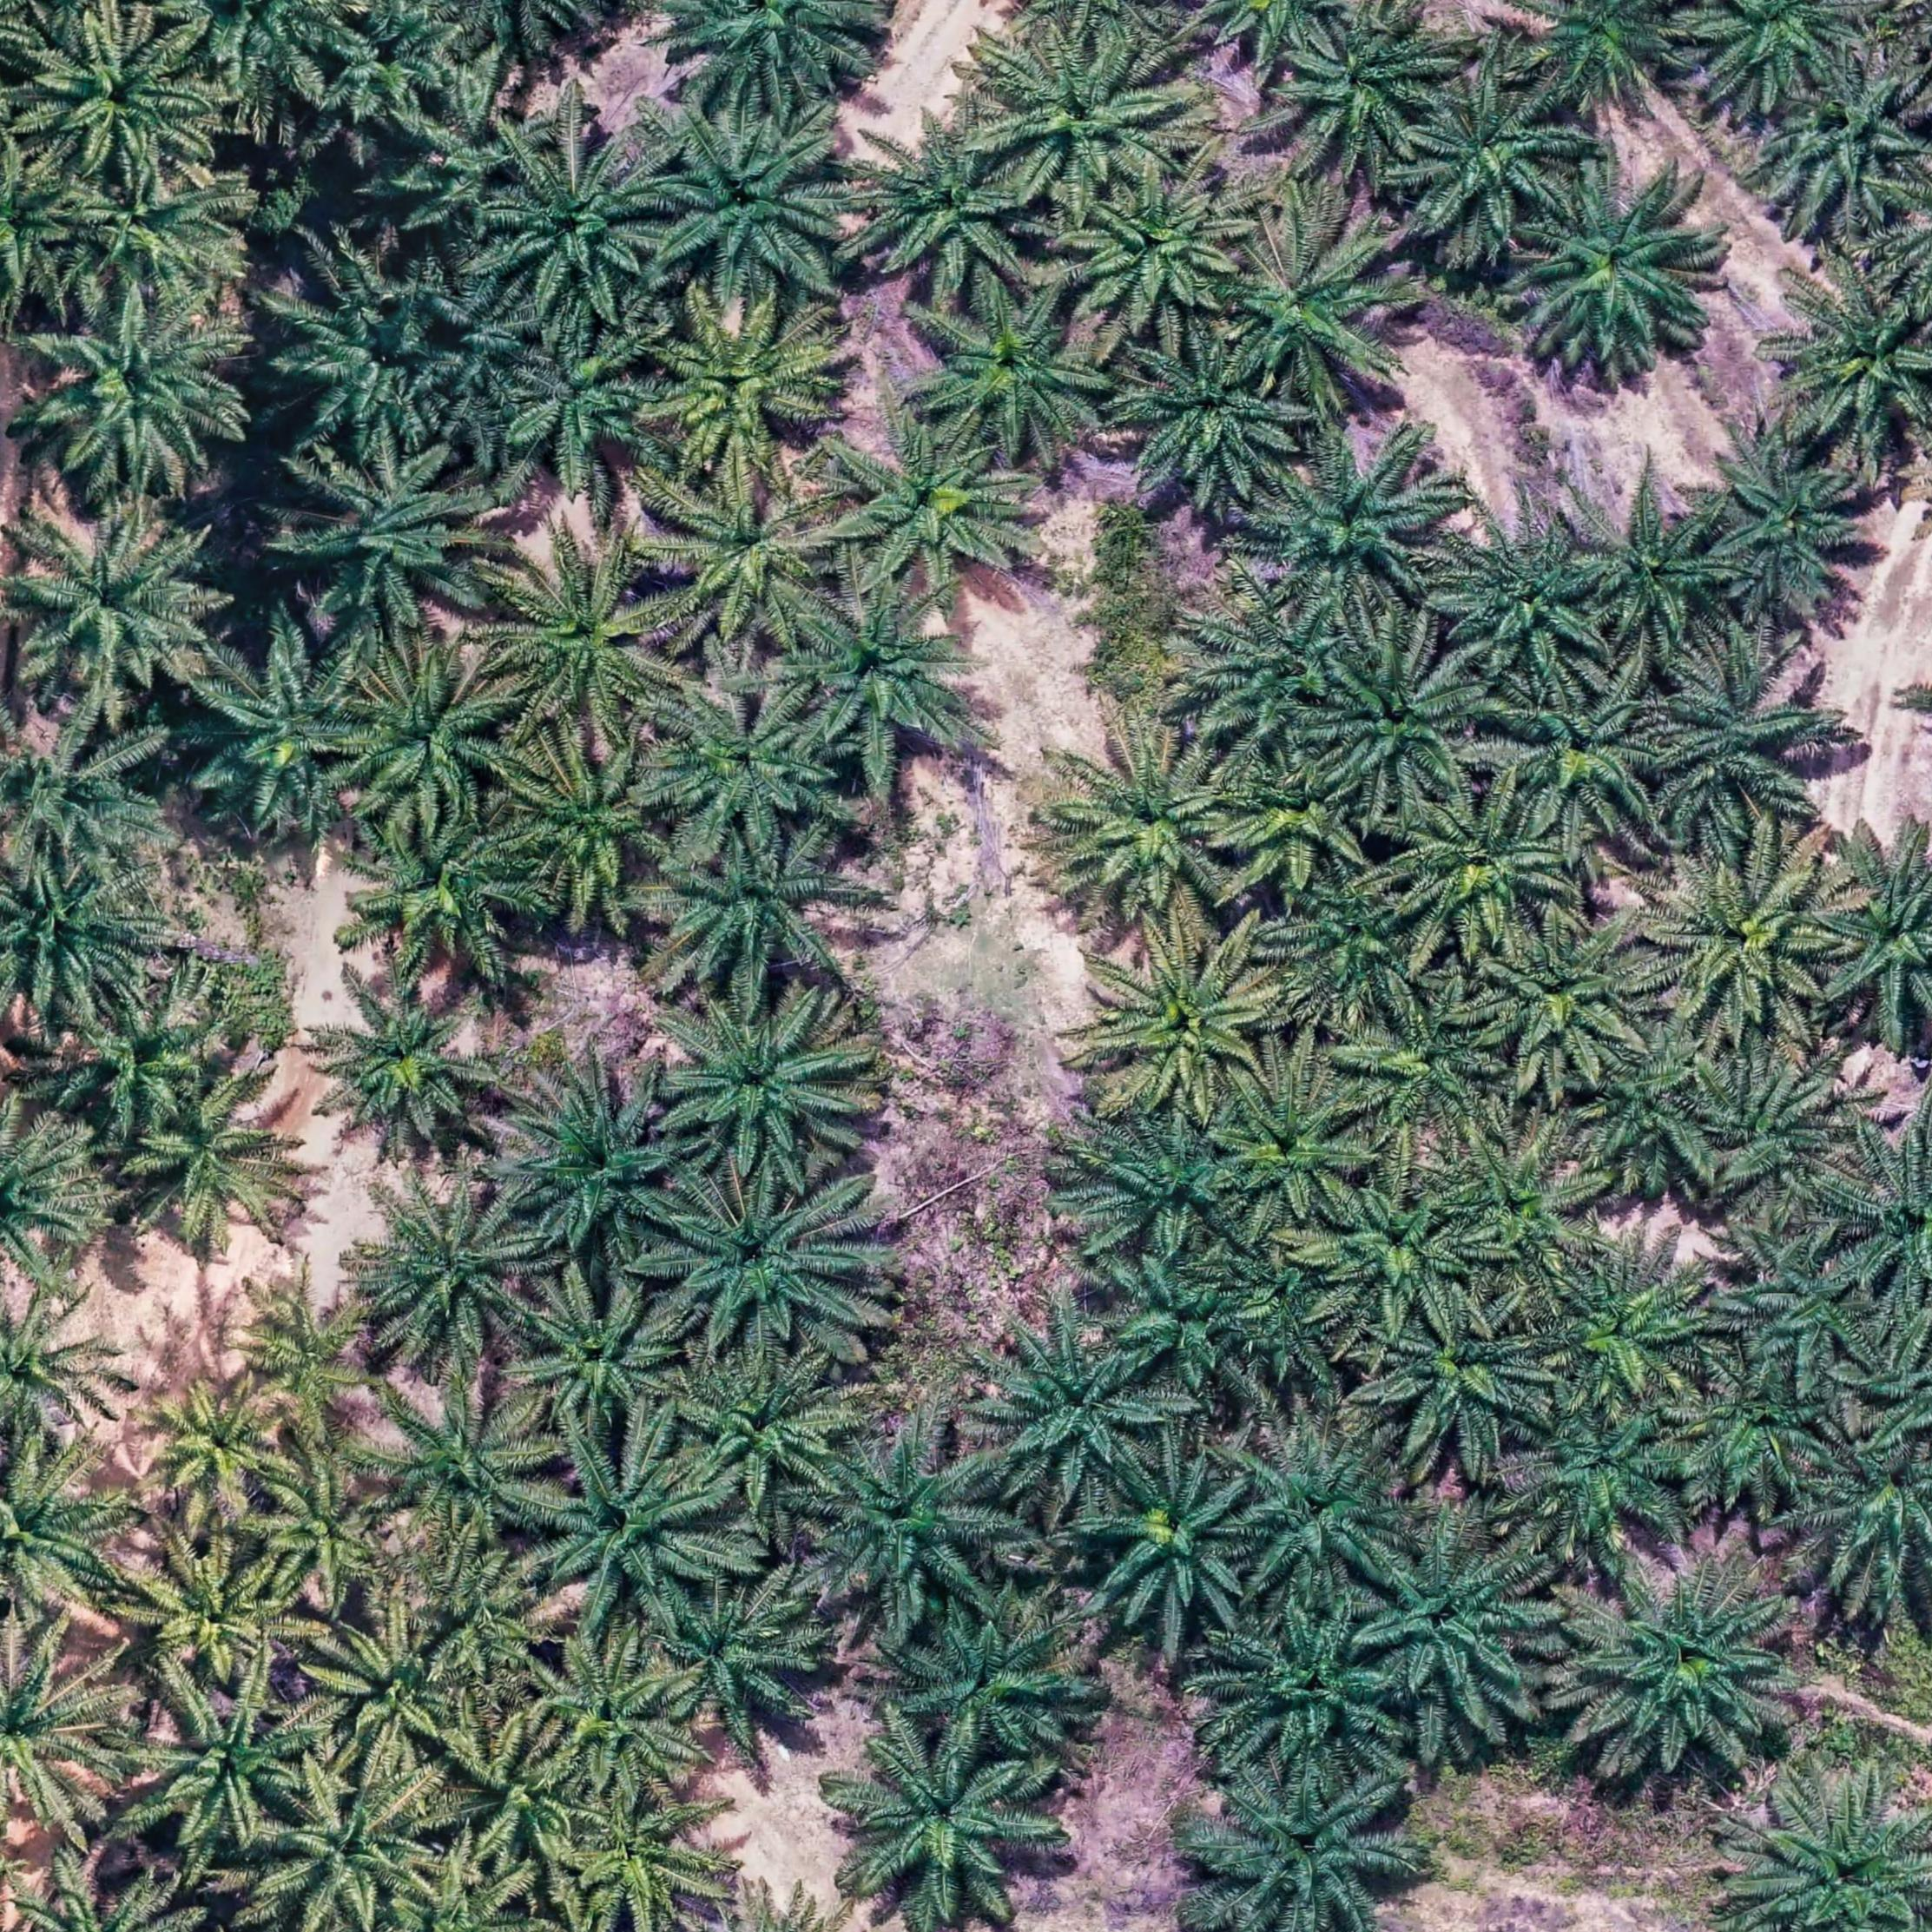palmtree: (1552, 1587, 1828, 1773), (4, 0, 234, 193), (483, 522, 690, 734), (830, 1734, 1062, 1921), (897, 281, 1127, 464), (474, 97, 667, 308), (653, 1182, 886, 1350), (656, 1000, 872, 1180), (1070, 936, 1293, 1108), (973, 23, 1182, 203), (35, 301, 246, 479), (637, 826, 865, 991), (281, 244, 471, 441), (9, 513, 214, 694), (778, 587, 975, 771), (1637, 635, 1828, 823), (1415, 529, 1645, 685), (656, 113, 856, 292), (1046, 731, 1242, 908), (487, 743, 685, 918), (1056, 1116, 1290, 1263), (1516, 202, 1721, 368), (1198, 1612, 1424, 1762), (821, 437, 1037, 591), (281, 442, 483, 607), (1108, 338, 1320, 492), (651, 678, 840, 849), (1362, 1541, 1541, 1721), (1729, 1775, 1932, 1932), (635, 467, 846, 617), (1205, 1767, 1401, 1928), (384, 1396, 568, 1568), (819, 1451, 1007, 1617), (506, 1079, 701, 1238), (1088, 1256, 1272, 1424), (32, 163, 255, 301), (853, 126, 1049, 281), (1219, 216, 1407, 379), (361, 1187, 550, 1348), (1088, 1456, 1279, 1615), (154, 1667, 324, 1844), (648, 1568, 817, 1744), (533, 1444, 729, 1596), (1405, 80, 1592, 239), (1384, 1295, 1559, 1463), (651, 313, 833, 474), (1339, 970, 1522, 1131), (1180, 603, 1376, 752), (1760, 276, 1932, 446), (384, 87, 564, 246), (1307, 649, 1495, 801), (1799, 833, 1932, 1046), (2, 869, 177, 1026), (1313, 1178, 1490, 1332), (127, 1070, 294, 1233), (1277, 444, 1449, 602), (195, 653, 382, 796), (1479, 932, 1649, 1090), (1697, 460, 1882, 603), (1391, 803, 1587, 938), (1675, 1056, 1867, 1194), (488, 327, 648, 492), (543, 1789, 725, 1932), (1645, 863, 1813, 1017), (987, 1332, 1166, 1476), (2, 720, 172, 869), (1543, 1270, 1711, 1419), (665, 0, 890, 110), (0, 1430, 131, 1617), (5, 1642, 127, 1840), (343, 658, 506, 807), (349, 835, 527, 970), (0, 1090, 117, 1295), (522, 1276, 671, 1437), (1568, 492, 1729, 639), (1796, 1447, 1932, 1617), (883, 1629, 1090, 1741), (1683, 1355, 1845, 1497), (138, 1536, 303, 1675), (1244, 1451, 1408, 1591), (672, 1364, 855, 1490), (280, 1780, 430, 1932), (1069, 180, 1251, 304), (1491, 692, 1672, 816), (1219, 736, 1376, 878), (1284, 27, 1447, 163), (303, 7, 481, 129), (318, 1619, 476, 1757), (1529, 1419, 1698, 1546), (534, 1649, 688, 1789), (1748, 110, 1932, 226), (2, 1295, 140, 1440), (1690, 0, 1858, 119), (331, 1007, 494, 1129), (1750, 1237, 1898, 1366), (242, 1297, 382, 1433), (257, 1470, 400, 1603), (1518, 0, 1702, 101), (1235, 1092, 1376, 1214), (1822, 1131, 1932, 1283), (147, 1380, 292, 1491), (1472, 1146, 1587, 1249)
